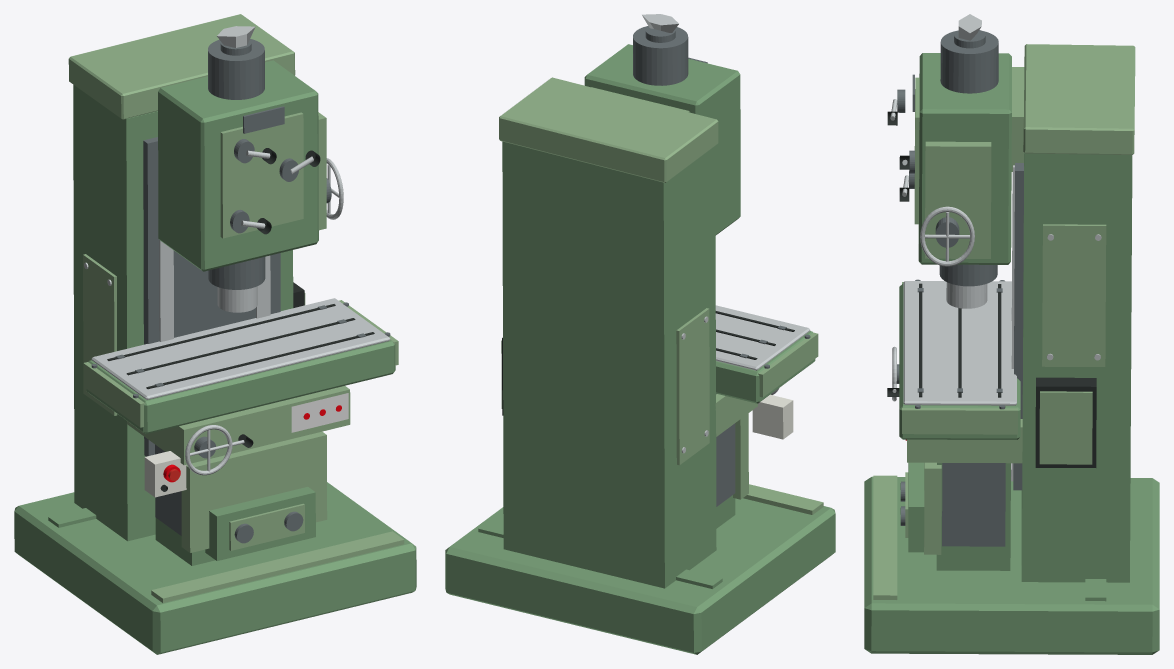
The model's file is TISHIN.fbx.
3 views of the same model, side by side, from view 1: azimuth 30°, elevation 25°; view 2: azimuth 150°, elevation 25°; view 3: azimuth 270°, elevation 25° (orthographic). The views are drawn at different scales.
Visible parts, largest first — view 1: Vertical_column, FX5045_badge, Cast_base_plinth, Table_end_bolt, Knee_vertical_slide, Column_top_cap, Front_base_toe, Feed_gearbox_cover, Плоскость, Longitudinal_feed_handwheel_crank, Electrical_control_box, Head_side_gearbox_cover (+10 smaller); view 2: Vertical_column, Cast_base_plinth, Column_top_cap, FX5045_badge, Table_end_bolt, Knee_vertical_slide, Electrical_control_box, Knee_side_guide, Front_base_toe, Rear_base_toe; view 3: Vertical_column, Cast_base_plinth, Table_end_bolt, FX5045_badge, Column_top_cap, Knee_vertical_slide, Head_side_gearbox_cover, Knee_side_guide, Front_base_toe, Head_handwheel_rim, Ram_support, Polished_quill_sleeve (+4 smaller).
Boxes of the visible parts, box(x1,y1,x2,y2) form: Vertical_column: box(73, 85, 305, 541); FX5045_badge: box(158, 26, 318, 289); Cast_base_plinth: box(14, 482, 416, 654); Table_end_bolt: box(83, 298, 398, 434); Knee_vertical_slide: box(127, 386, 350, 565); Column_top_cap: box(68, 14, 295, 119); Front_base_toe: box(151, 531, 404, 602); Feed_gearbox_cover: box(229, 503, 304, 550); Плоскость: box(291, 393, 348, 432); Longitudinal_feed_handwheel_crank: box(185, 425, 253, 475); Electrical_control_box: box(144, 451, 186, 497); Head_side_gearbox_cover: box(318, 112, 326, 230); Vertical_column: box(501, 141, 716, 588); Cast_base_plinth: box(445, 498, 835, 654); Column_top_cap: box(499, 77, 718, 182); FX5045_badge: box(584, 14, 740, 235); Table_end_bolt: box(715, 305, 818, 403); Knee_vertical_slide: box(715, 394, 771, 528); Electrical_control_box: box(752, 394, 793, 439); Knee_side_guide: box(716, 423, 735, 506); Front_base_toe: box(743, 484, 823, 514); Rear_base_toe: box(478, 521, 722, 588); Vertical_column: box(1011, 153, 1132, 582); Cast_base_plinth: box(864, 476, 1159, 654); Table_end_bolt: box(899, 279, 1020, 439); FX5045_badge: box(912, 14, 1011, 286); Column_top_cap: box(1023, 44, 1135, 154); Knee_vertical_slide: box(907, 419, 1022, 570); Head_side_gearbox_cover: box(925, 141, 991, 258); Knee_side_guide: box(942, 463, 1005, 546); Front_base_toe: box(873, 475, 897, 599); Head_handwheel_rim: box(920, 206, 974, 266); Ram_support: box(1011, 67, 1024, 171); Polished_quill_sleeve: box(946, 282, 987, 308).
Bounding box in the file's own units: 235 × 475 × 224.
